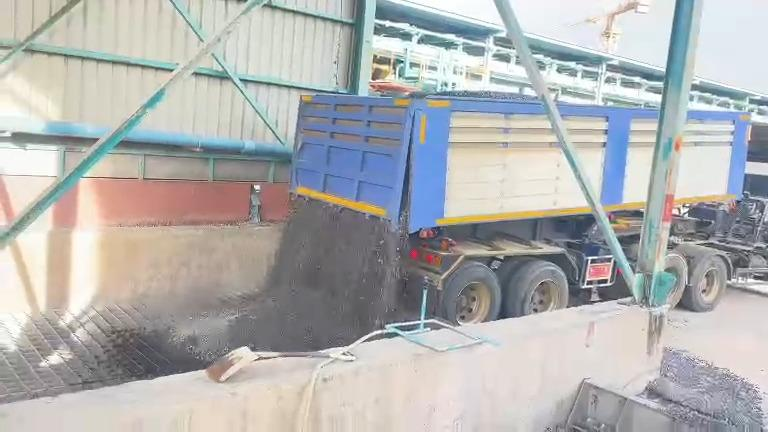gravel: (175, 199, 403, 360), (647, 348, 767, 425)
